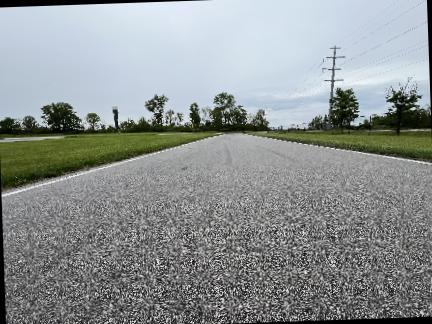Grass: (0, 133, 217, 189), (252, 132, 431, 161)
Lane: (2, 134, 431, 323)
